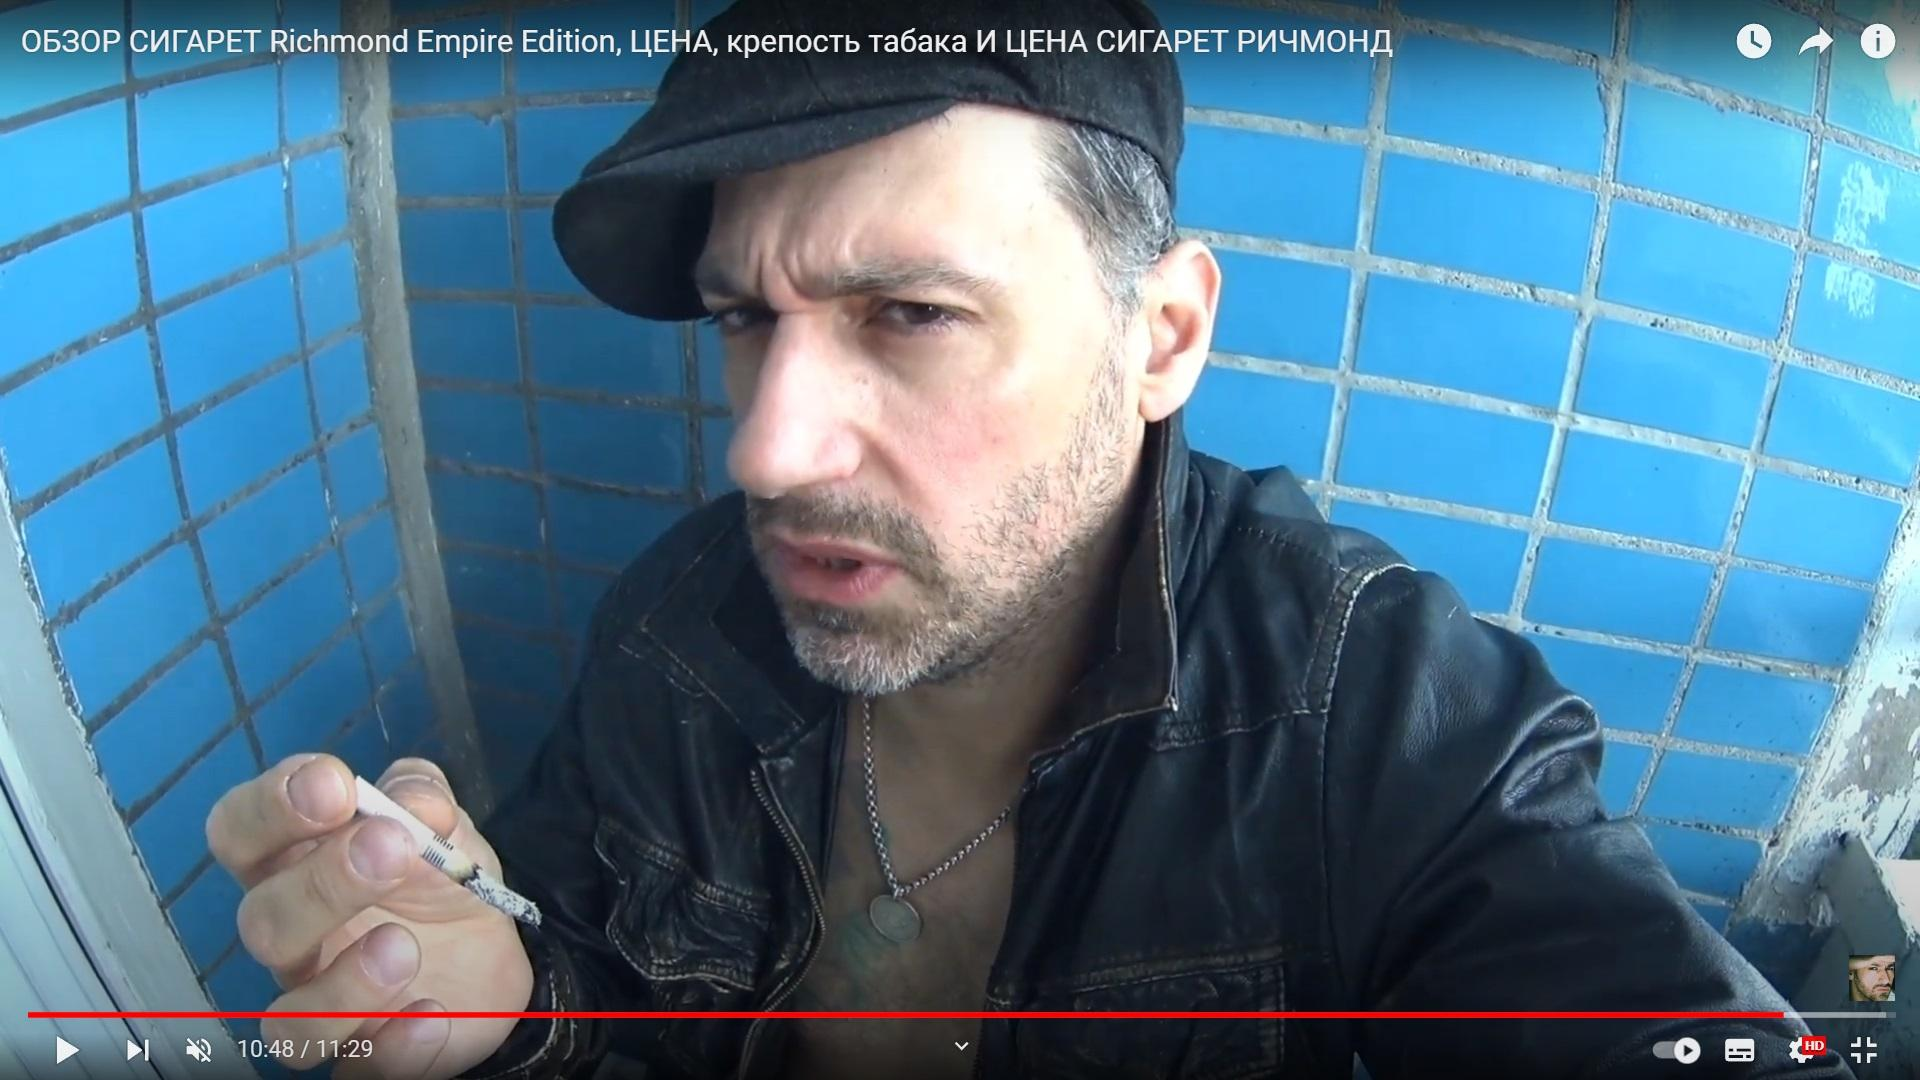cigarette: (339, 777, 543, 927)
